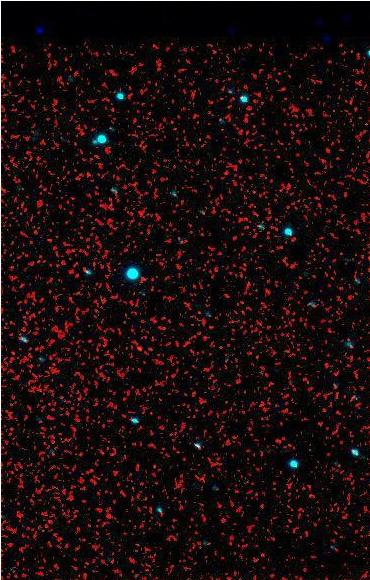star: (124, 334, 154, 364)
